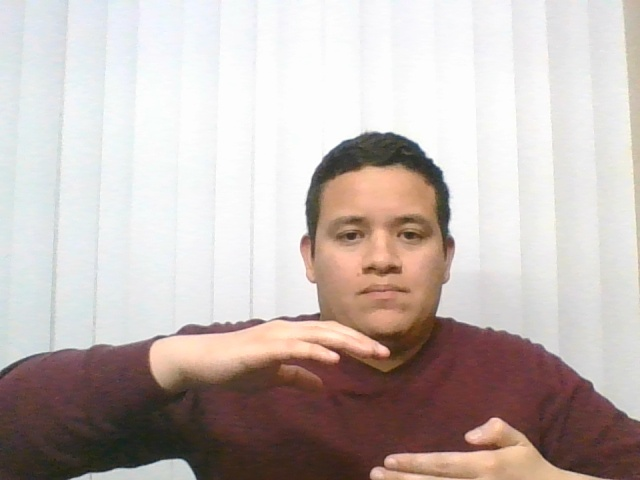To Study: (124, 288, 588, 480)
